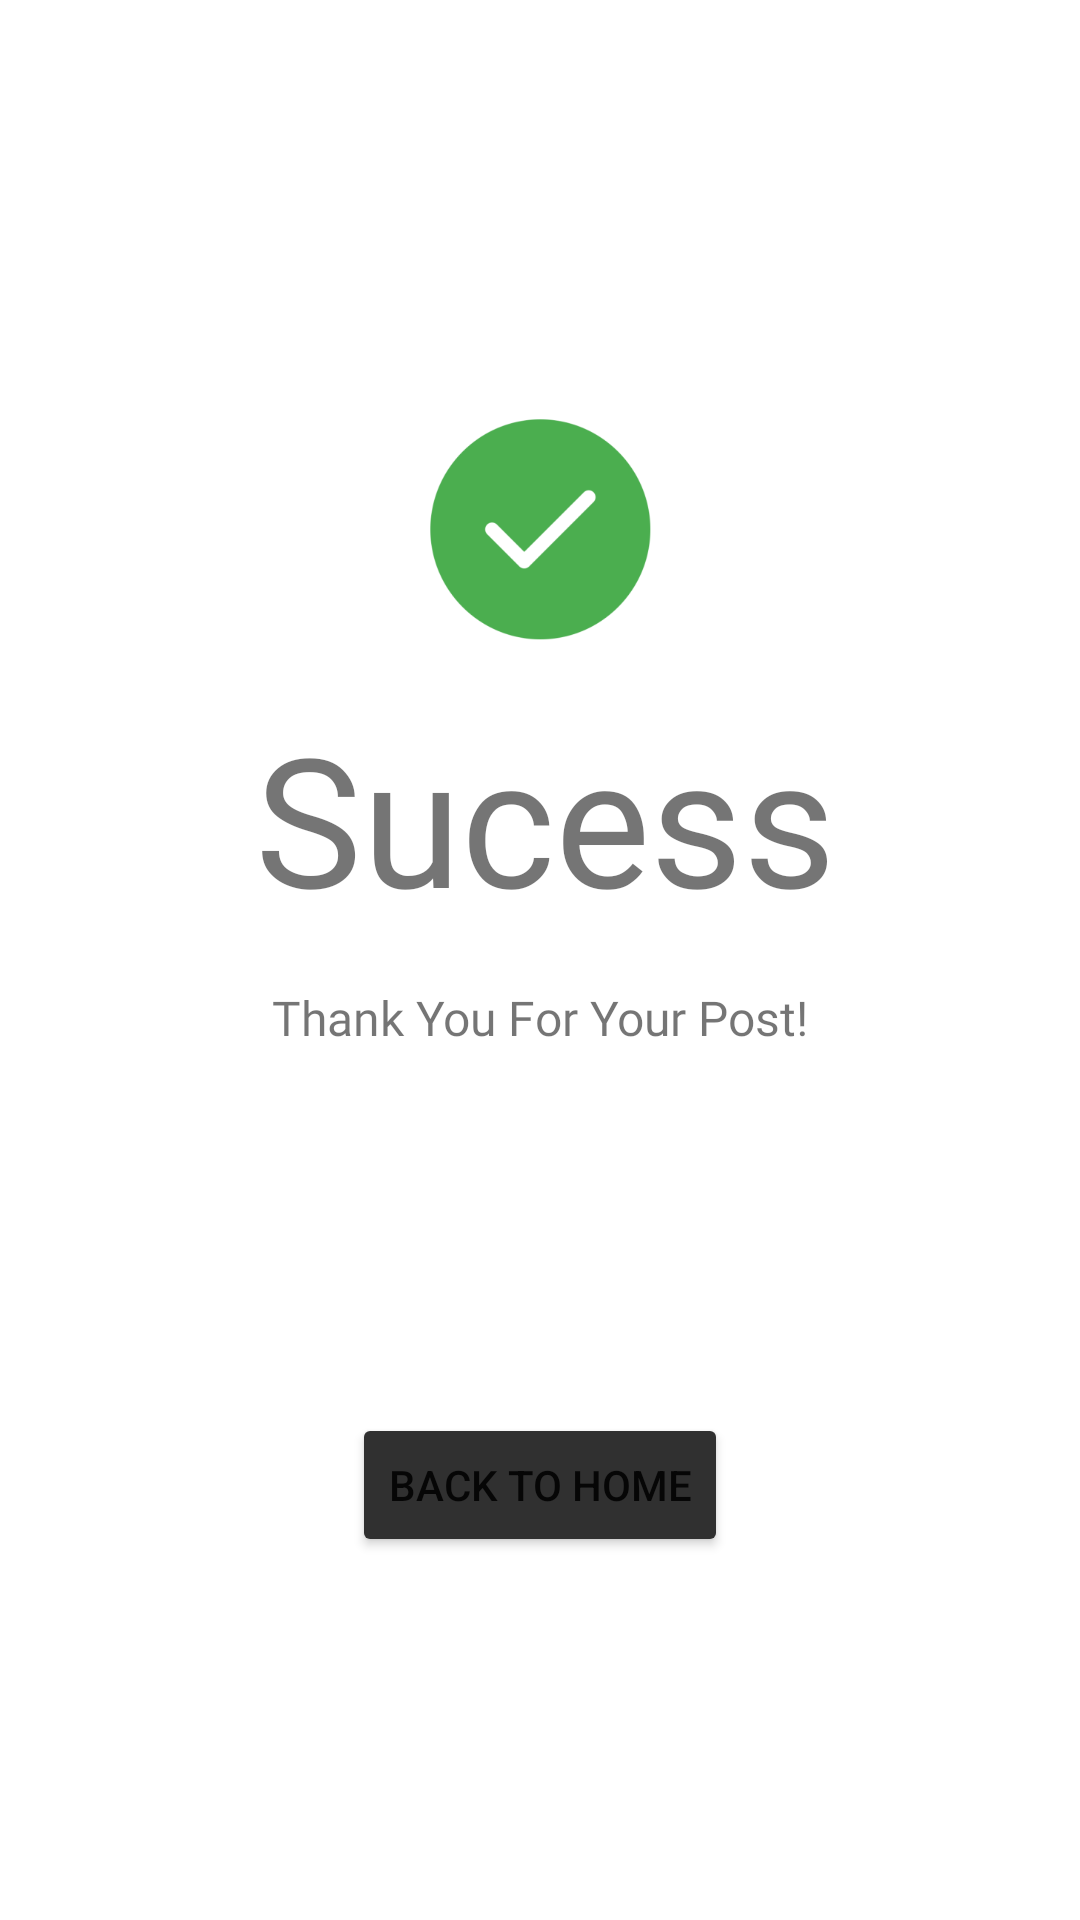

Icons on this 1080x1920 Android screen, each with the point to tap as point (x, y):
checkmark: point (540, 529)
